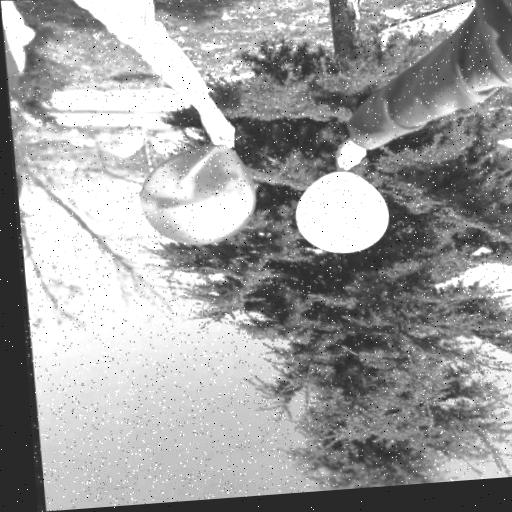balloon: (125, 133, 268, 255), (289, 154, 391, 259)
